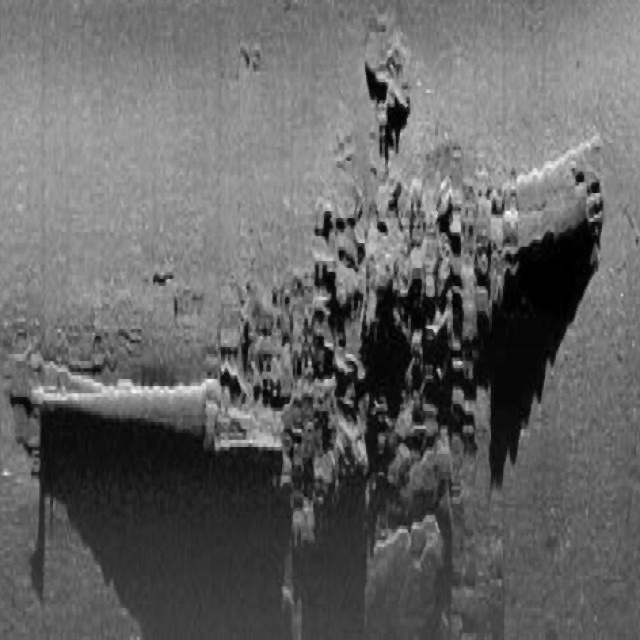Ship: (17, 36, 606, 632)
